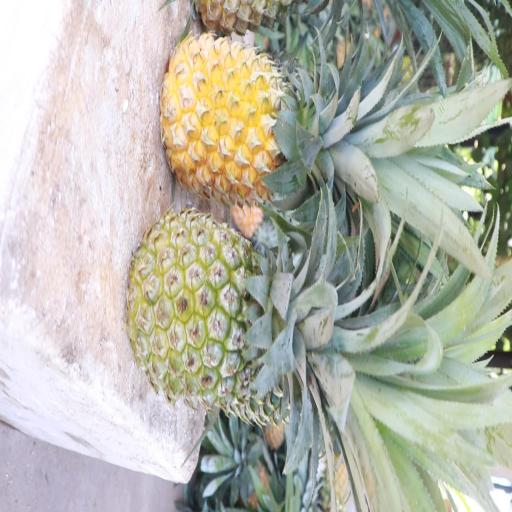------------------------------: (130, 213, 302, 395)
Pineapple - v8 v1: (168, 27, 314, 192)
